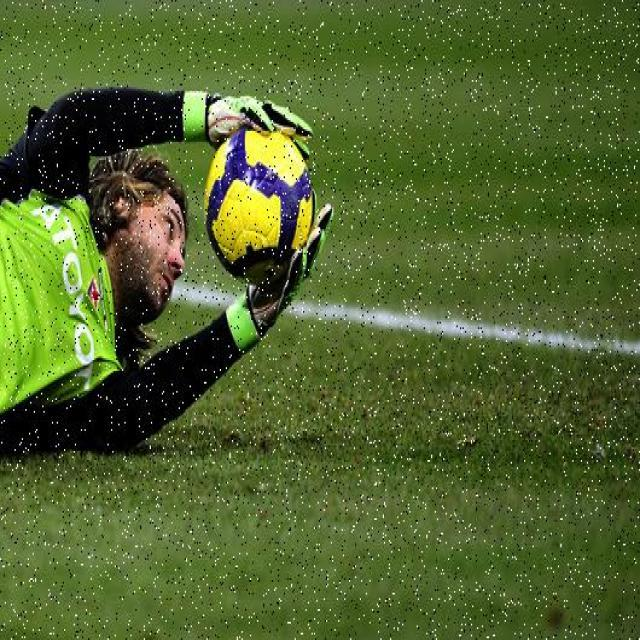fall: (1, 90, 209, 466)
